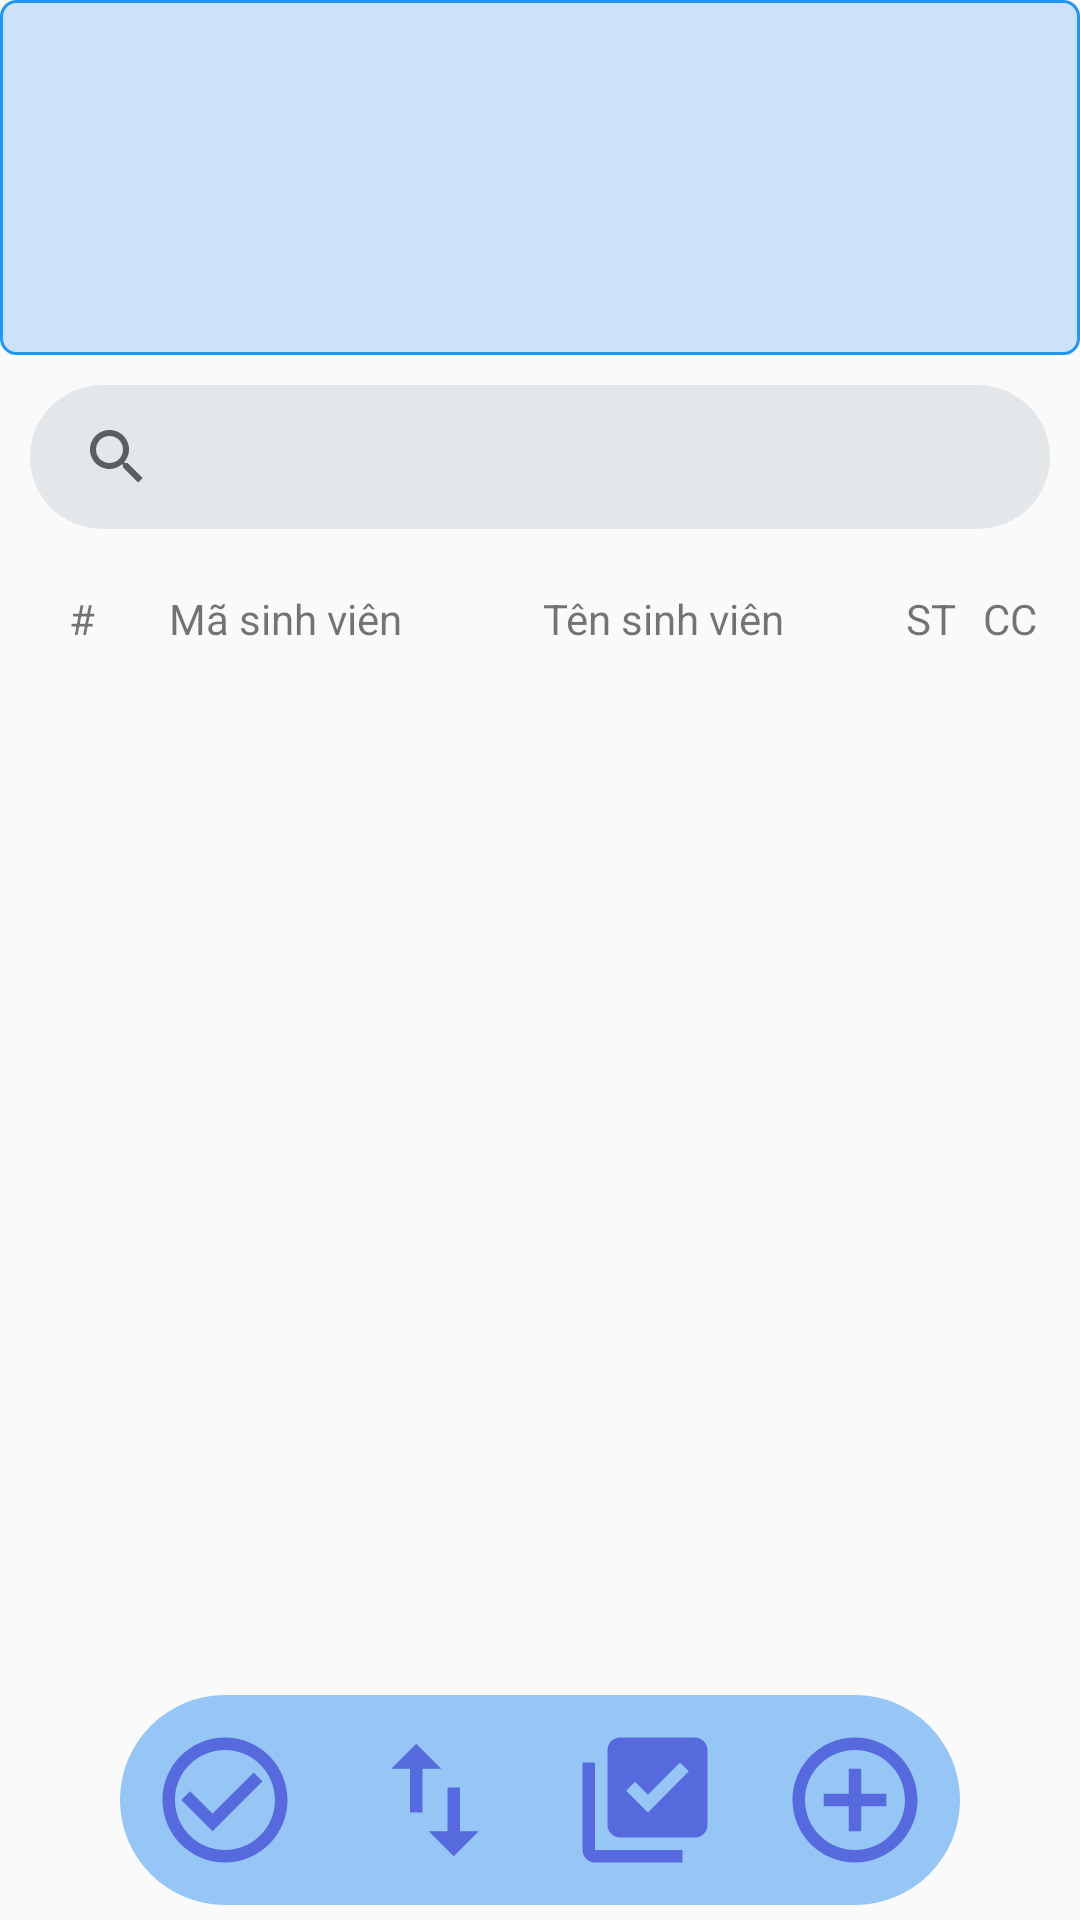

Locate icon controls on the screen. Image size 1080px x 1920px, boxes as (x1, y1, x2, y2).
add circle: (792, 1737, 918, 1863)
check circle: (162, 1737, 288, 1863)
import export: (391, 1744, 479, 1856)
